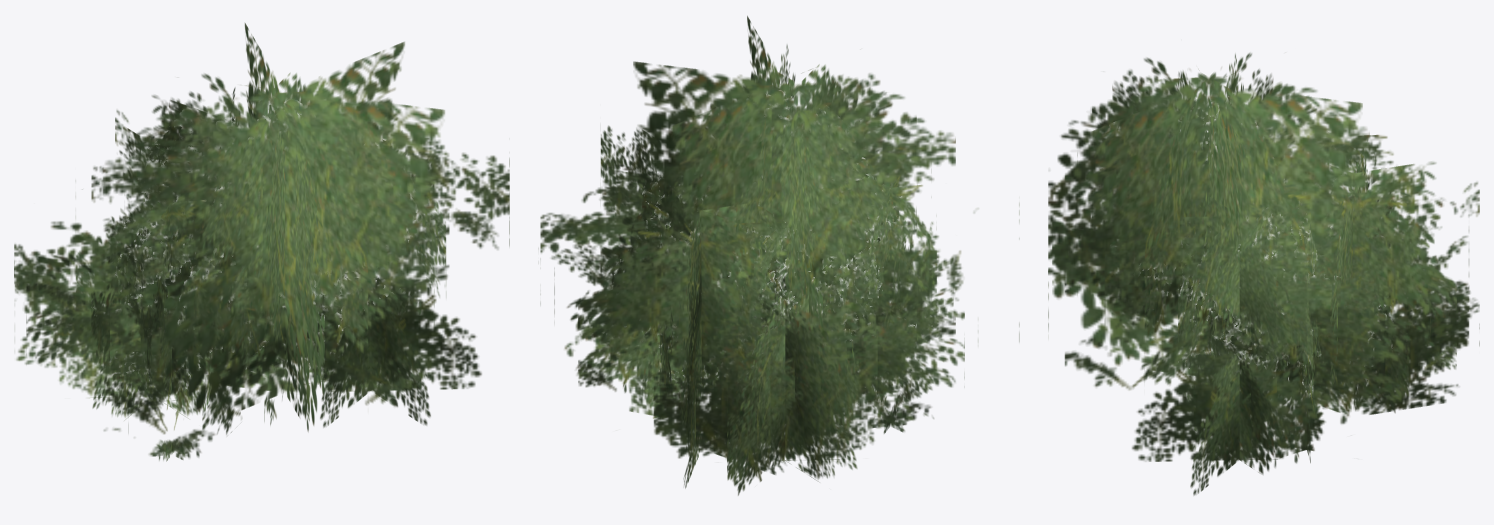
The model's file is bush.glb.
3 renders of one model, left to right at view 1: azimuth 30°, elevation 25°; view 2: azimuth 150°, elevation 25°; view 3: azimuth 270°, elevation 25°, orthographic. The views are drawn at different scales.
Parts seen in each view (by area): view 1: bush; view 2: bush; view 3: bush.
Part boxes in pixels (x1=…): bush: x1=14, y1=23, x2=509, y2=461; bush: x1=540, y1=16, x2=1019, y2=495; bush: x1=1048, y1=53, x2=1479, y2=495.
Size of the model in its own units: 1.81 by 1.34 by 1.6.
1 material, 1 textured.
